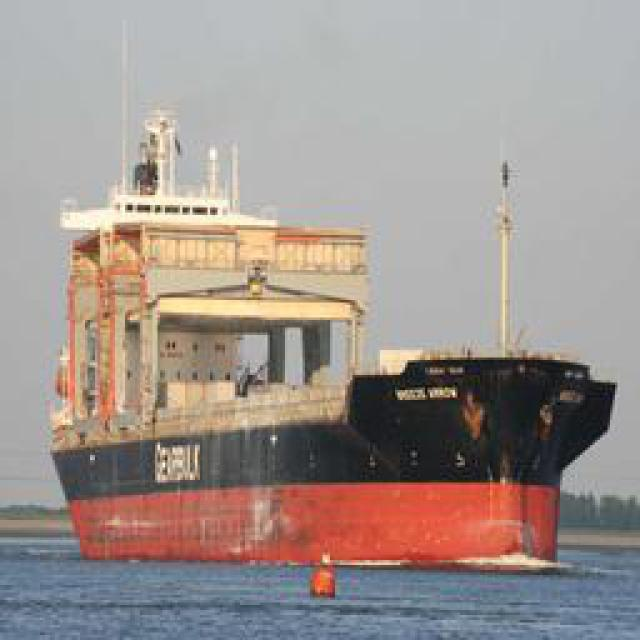Ship: (55, 320, 610, 573)
